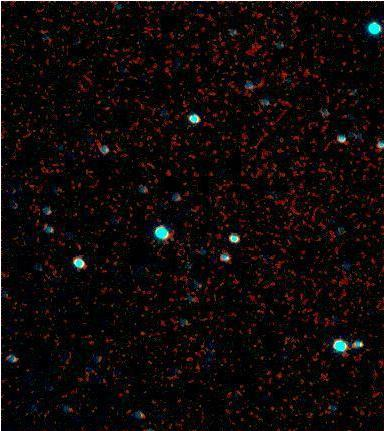star: (267, 60, 297, 90)
